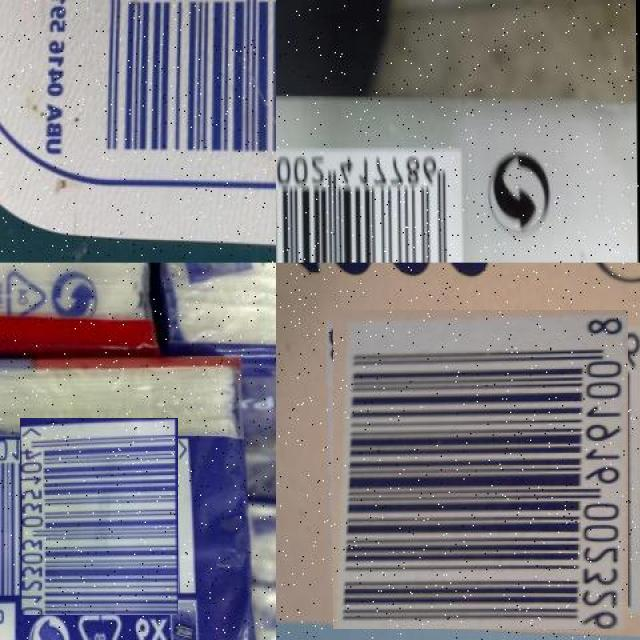Barcode: (327, 316, 634, 623), (75, 0, 276, 168), (10, 428, 188, 606), (276, 152, 463, 263)
